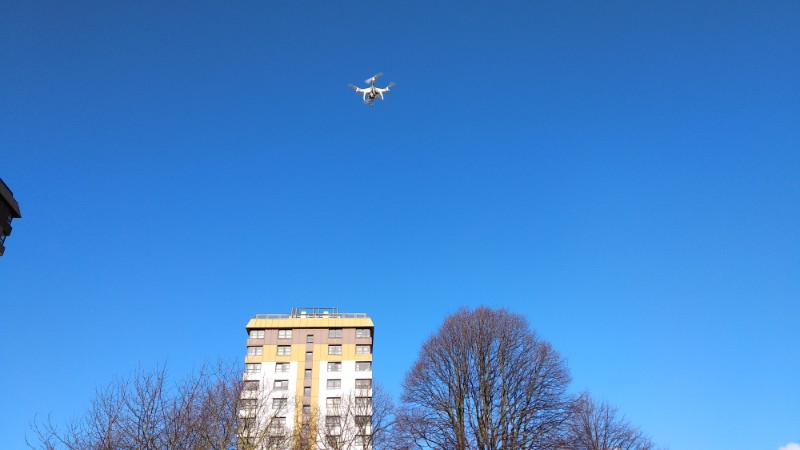drone: (348, 70, 396, 108)
